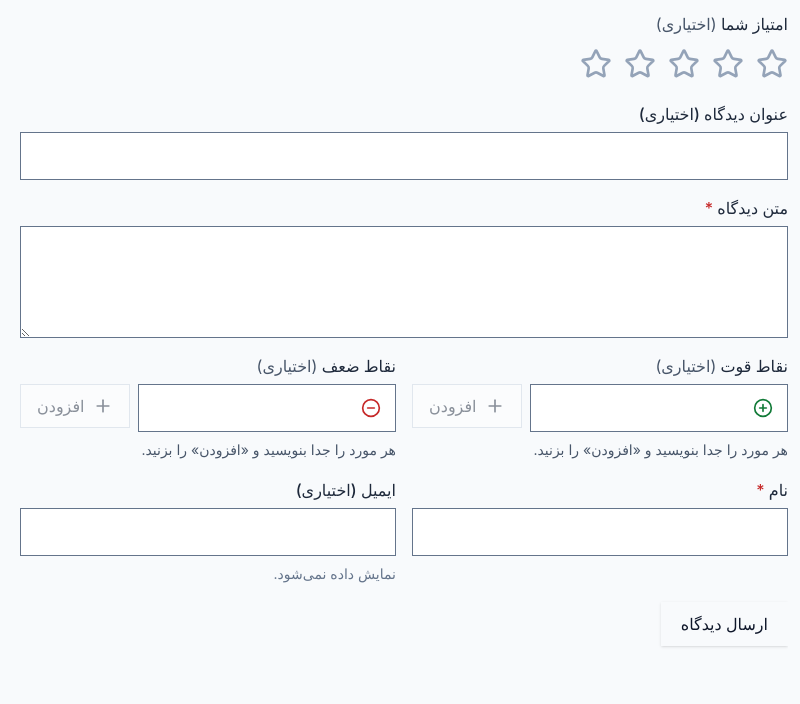
Test case: ReviewForm after the API answers › says why at the form when it fails with no connection
The image size is (800, 704).
Type "عالی" into the text box labelled "متن دیدگاه *" at {"x": 404, "y": 282}, box [20, 226, 788, 338]
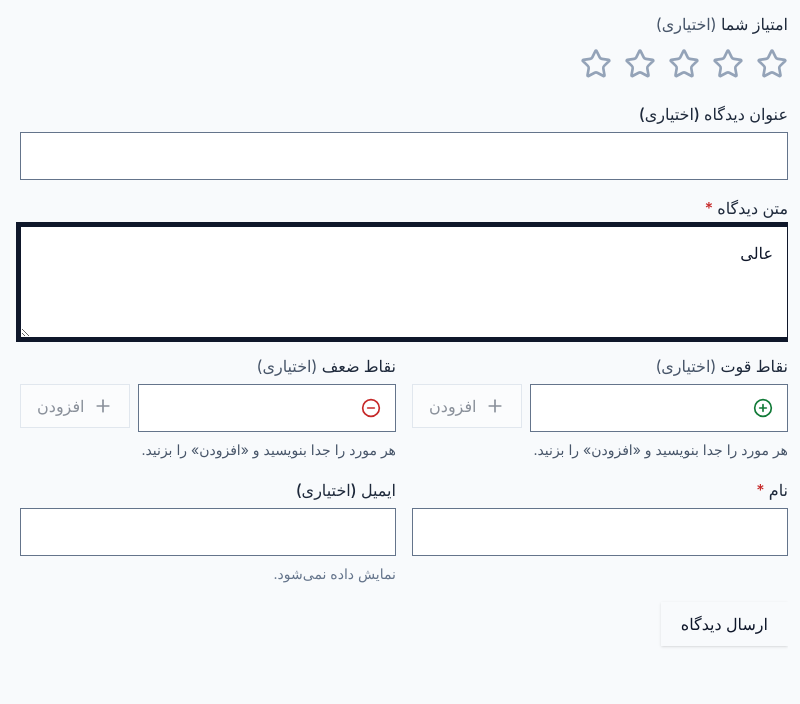
Type "سارا" into the field named "نام (" at {"x": 600, "y": 532}, box [413, 509, 787, 555]
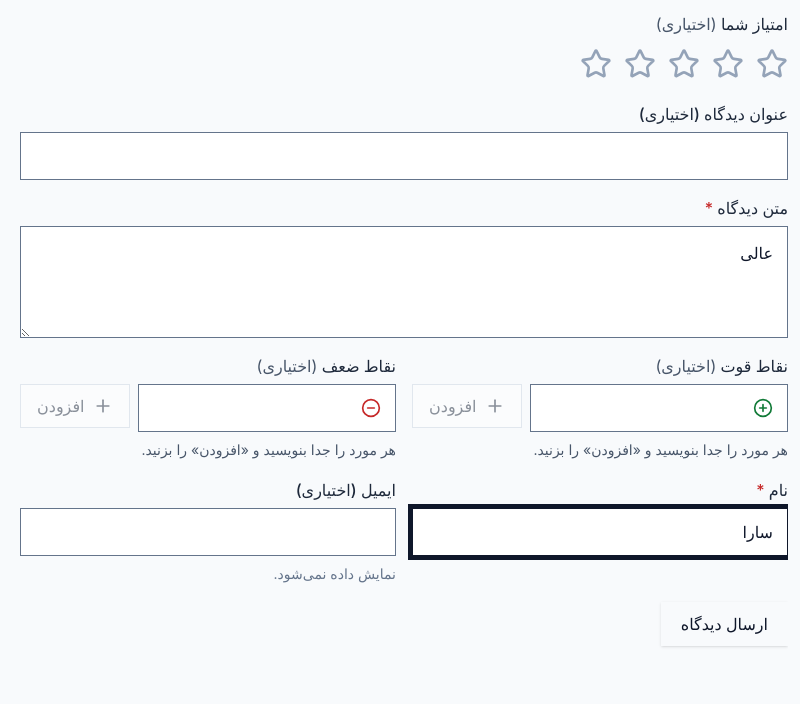
Click the button "ارسال دیدگاه" at {"x": 724, "y": 624}, box [661, 602, 788, 646]
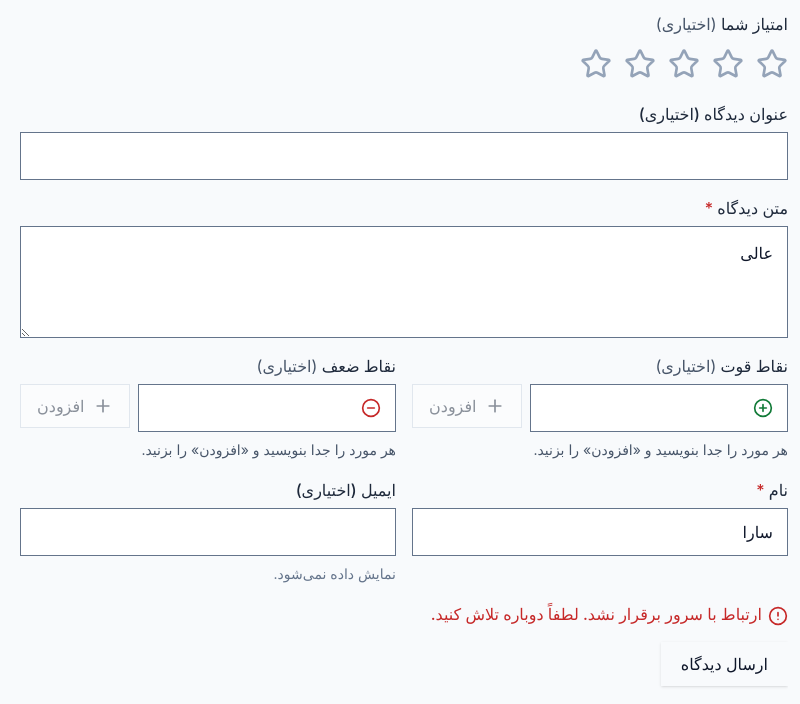
Expected: the button "ارسال دیدگاه" is enabled, [661, 642, 788, 686]
Result: the message reads "ارتباط با سرور برقرار نشد. لطفاً دوباره تلاش کنید." at [431, 604, 762, 624]
